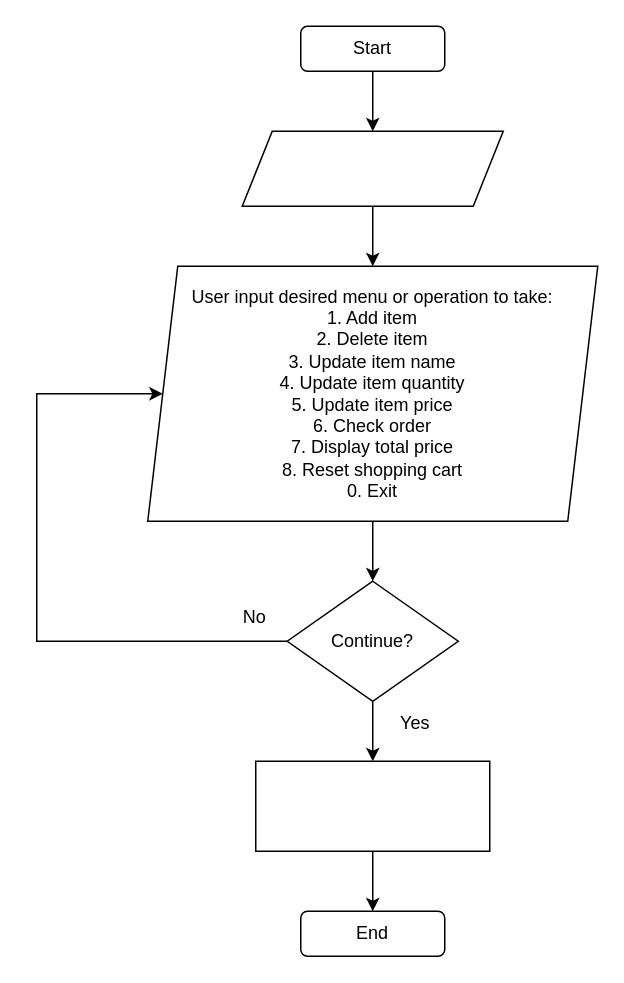
The diagram is 624 pixels wide and 983 high, and some of its shapes have lost their labels. The shapes that lost their labels are listed below. From the top down, each one's box as (x1, y1, x2, y2) in pixels, then its label:
(241, 130, 503, 206): User input customer ID
(254, 760, 490, 851): Check order and display total price
